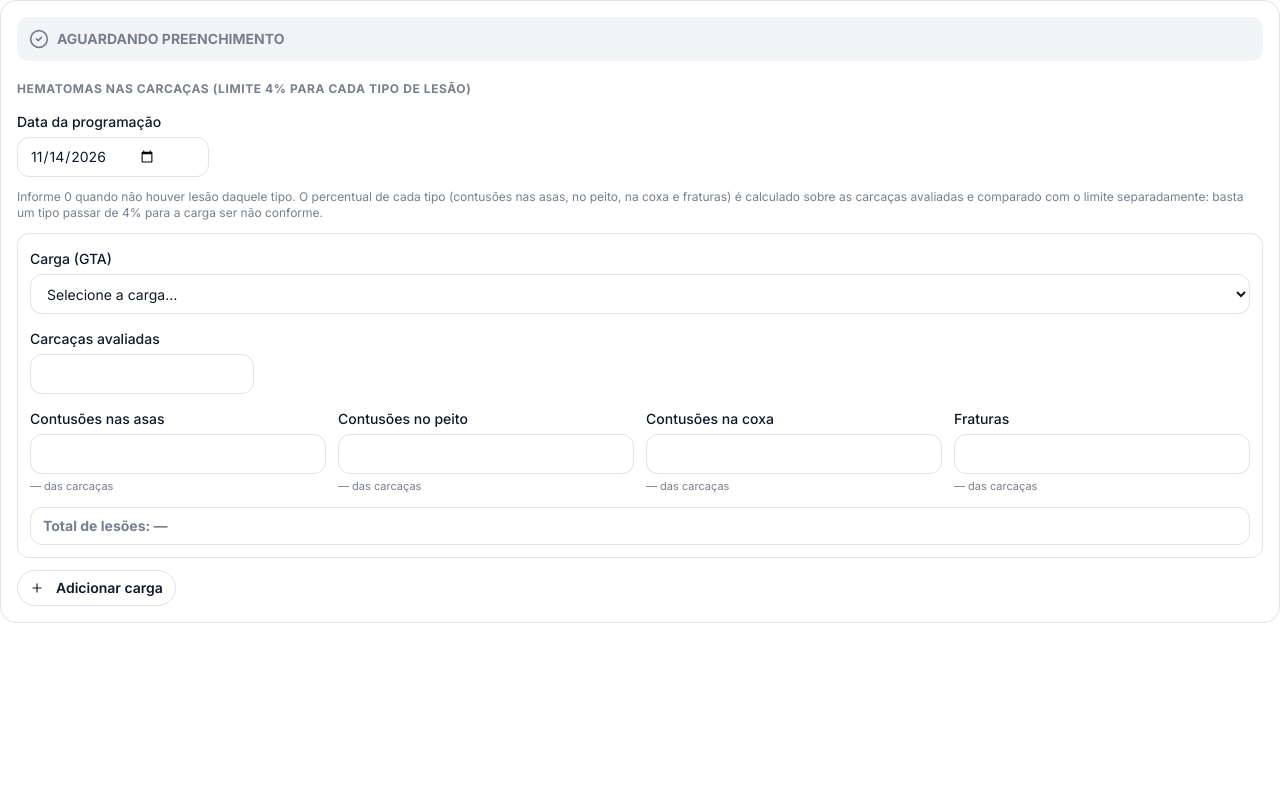
Test: HematomasField › só aceita dígitos nas contagens
Type "1a,2" into the field labelled "Fraturas". click: (1102, 454)
box: [954,434,1250,474]
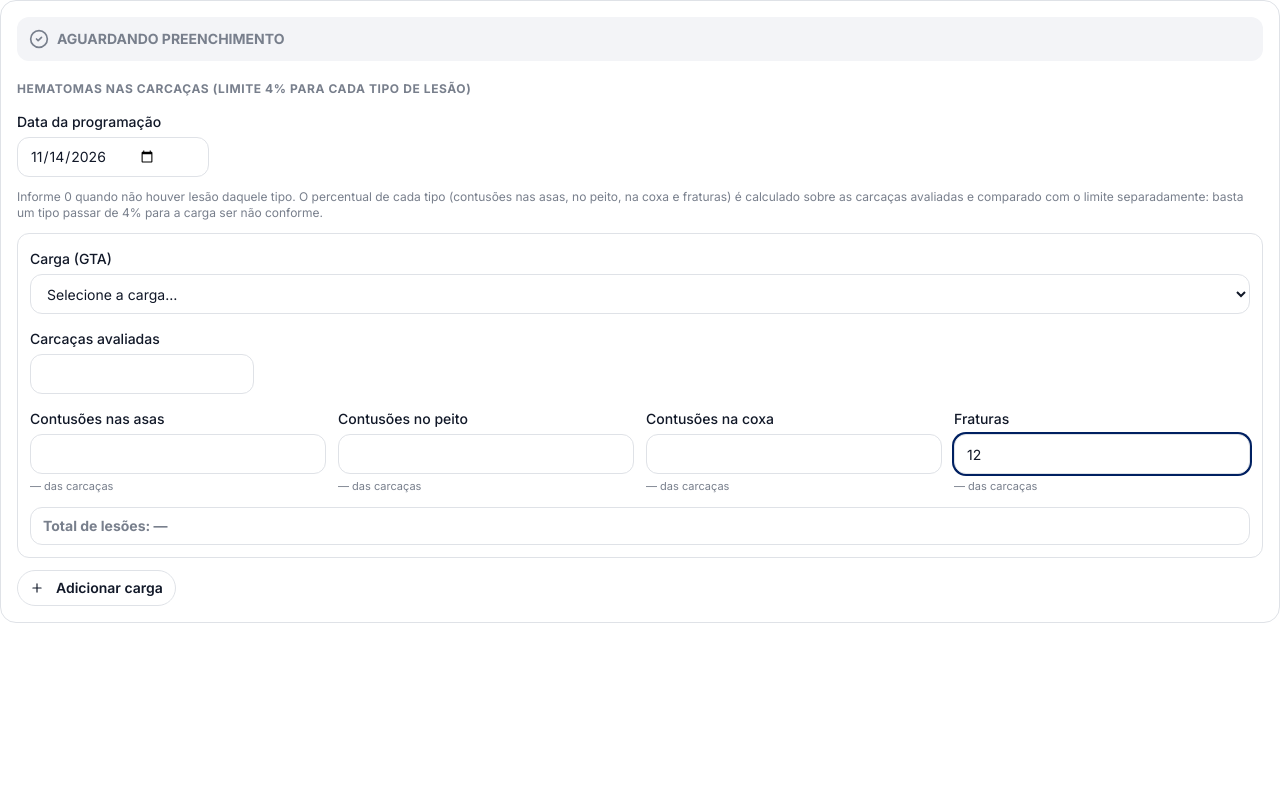
Expected: the field labelled "Fraturas" holds "12", [954,434,1250,474]
